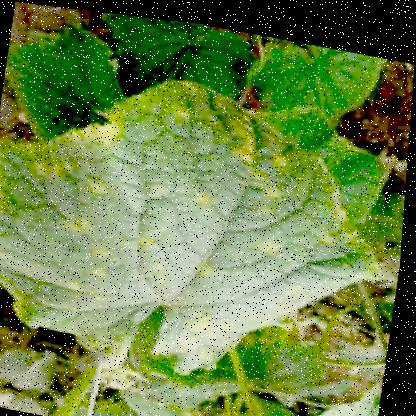DownyMildew: (120, 71, 359, 269), (0, 127, 163, 337)
